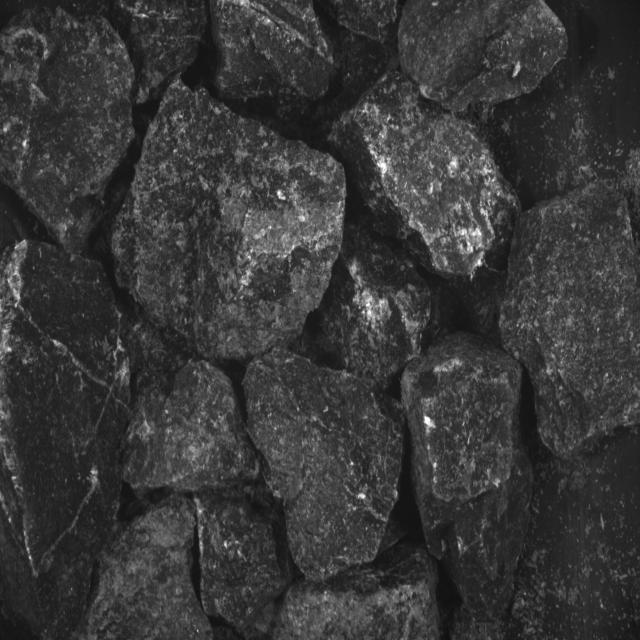Stones: (114, 82, 346, 362), (1, 241, 130, 639), (331, 74, 521, 278), (501, 183, 640, 460), (402, 333, 534, 623), (245, 352, 405, 582), (1, 9, 135, 253), (124, 316, 260, 495), (81, 496, 214, 640), (400, 1, 569, 113), (320, 226, 432, 390), (275, 544, 440, 640), (211, 1, 334, 109), (196, 493, 292, 631), (116, 1, 207, 105), (330, 1, 399, 44)
